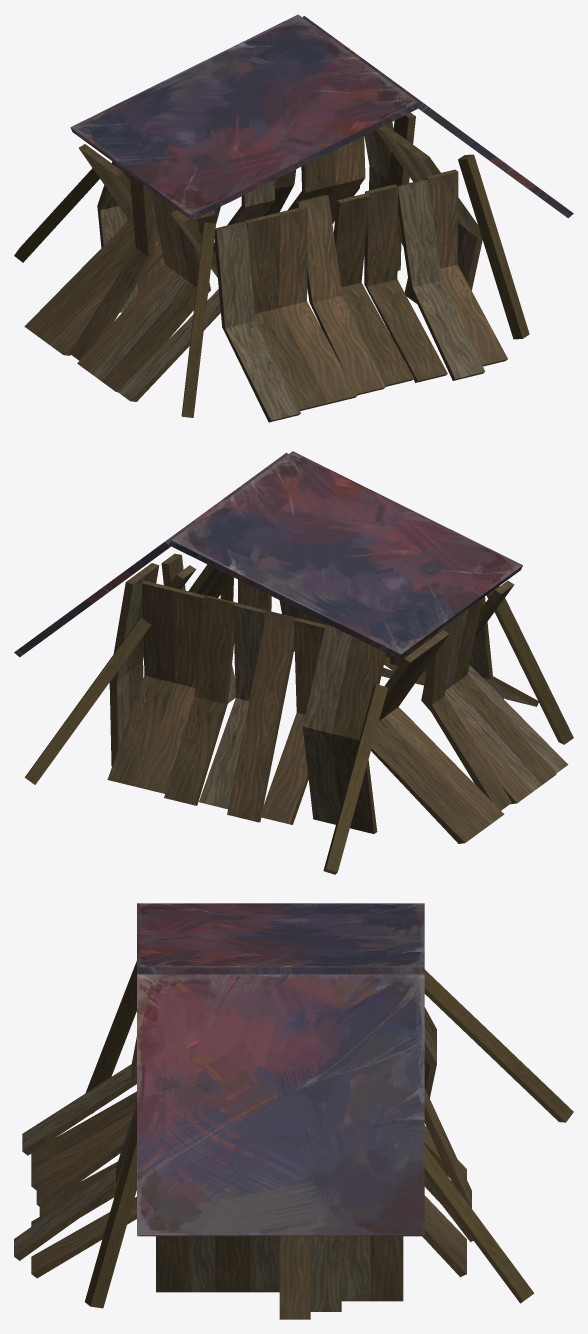
The model's file is Ruins08.fbx.
The picture shows the model from 3 angles, top to bottom: view 1: azimuth 30°, elevation 25°; view 2: azimuth 150°, elevation 25°; view 3: azimuth 270°, elevation 25°; orthographic projection. The views are drawn at different scales.
Parts seen in each view (by area): view 1: Ruins08; view 2: Ruins08; view 3: Ruins08.
Part boxes in pixels (x1,y1,x2,y2): Ruins08: (14, 14, 573, 422); Ruins08: (14, 451, 573, 874); Ruins08: (14, 903, 573, 1319).
Size of the model in its own units: 4.88 by 2.72 by 4.53.
2 materials, 2 textured.
